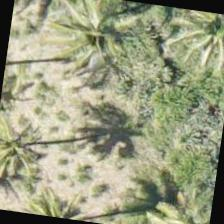Kelapa_Sawit: (33, 2, 135, 104), (0, 113, 67, 213), (160, 7, 223, 90), (139, 180, 214, 223)
